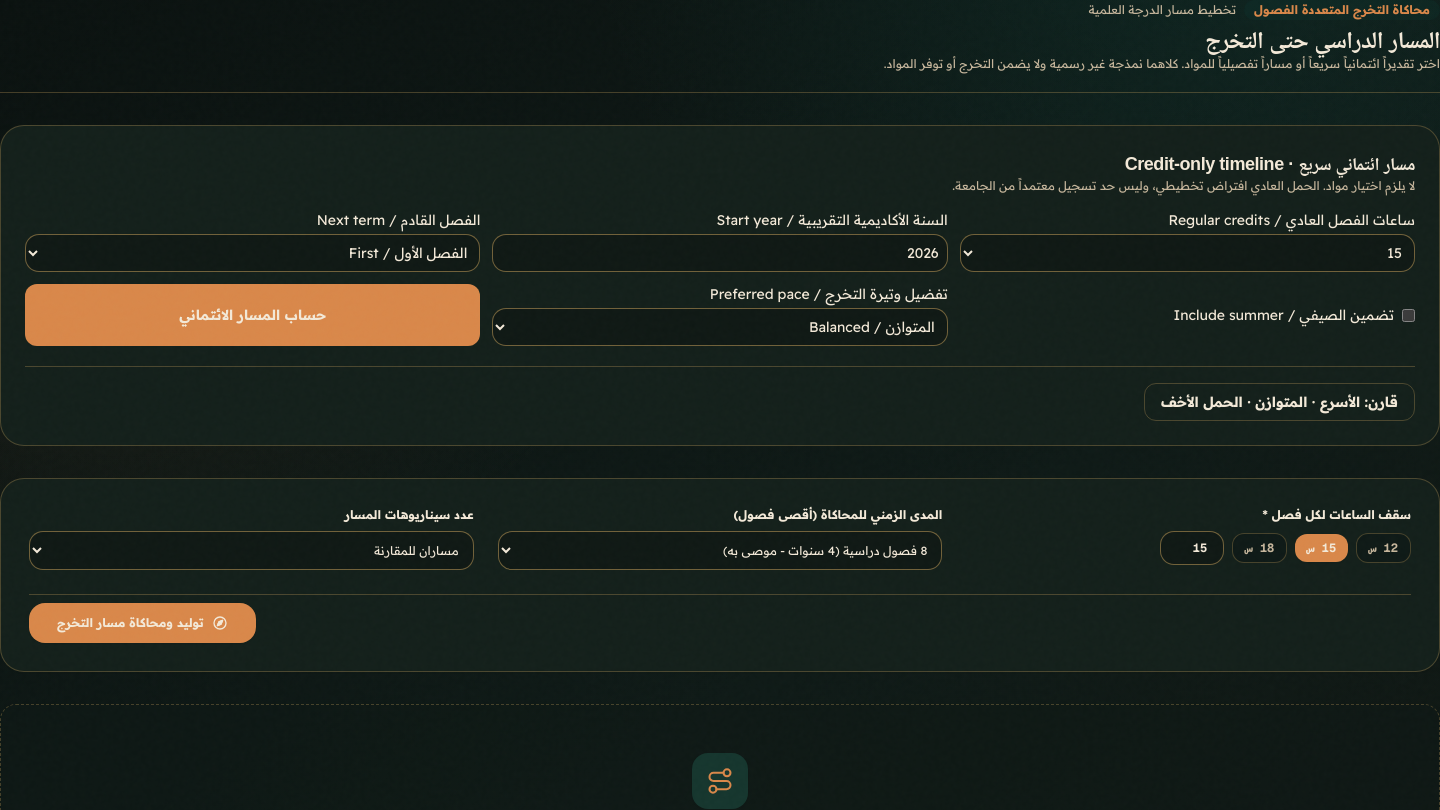
Test case: Morshidi Student Portal Pages Suite › renders DegreePathPage and simulates path until graduation
Expected: the heading "المسار الدراسي حتى التخرج" is shown, [1205, 26, 1439, 53]
Click the button "توليد ومحاكاة مسار التخرج" at (142,623), box [29, 603, 256, 643]
(page scrolled)
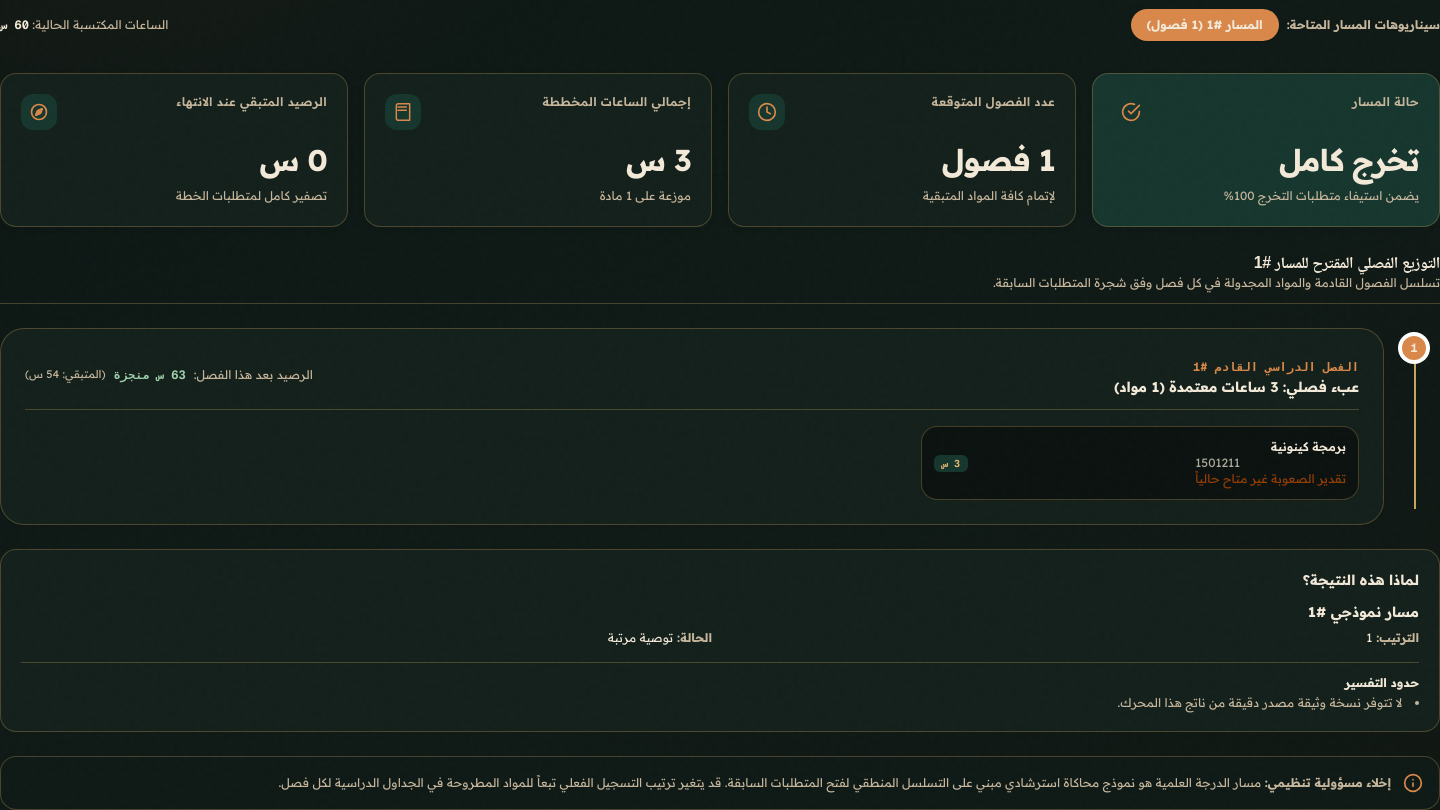
Expected: the text "تخرج كامل" is shown, [1279, 142, 1419, 178]
Expected: the text "الفصل الدراسي القادم #1" is shown, [1193, 358, 1359, 374]
Expected: the heading "مسار نموذجي #1" is shown, [1308, 602, 1419, 620]
